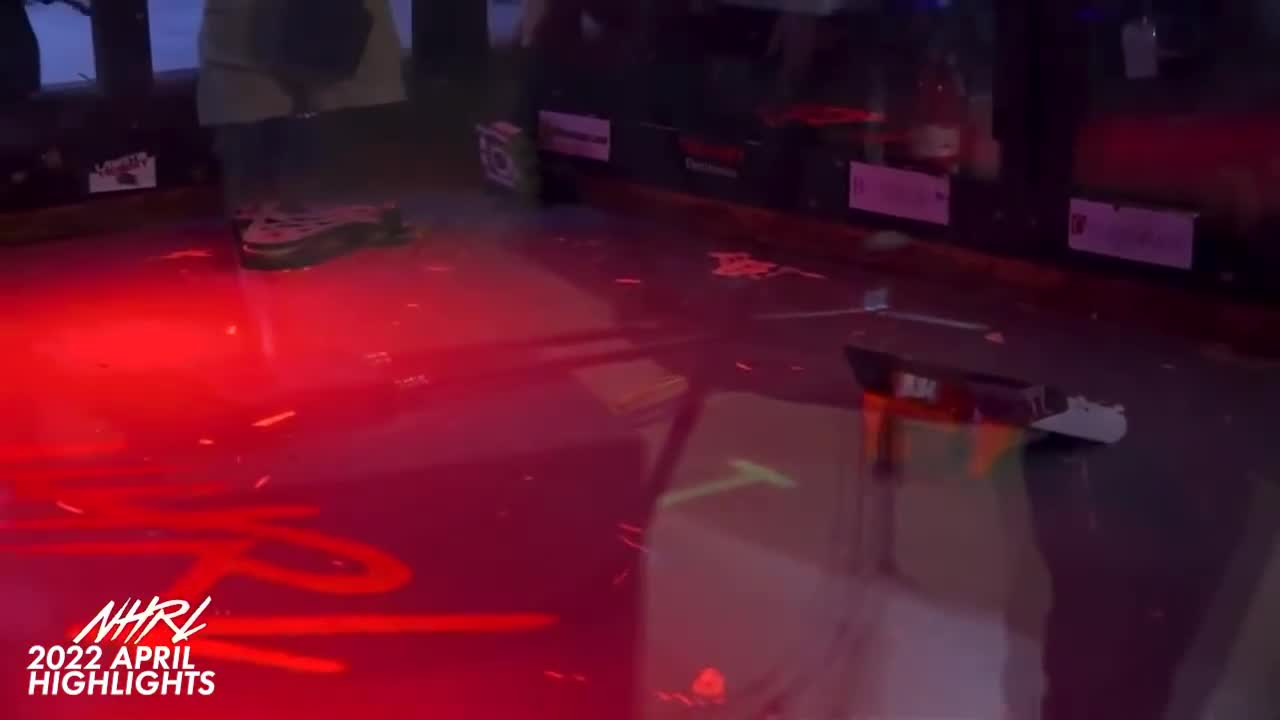combatbot: (841, 348, 1125, 470), (231, 191, 409, 278)
